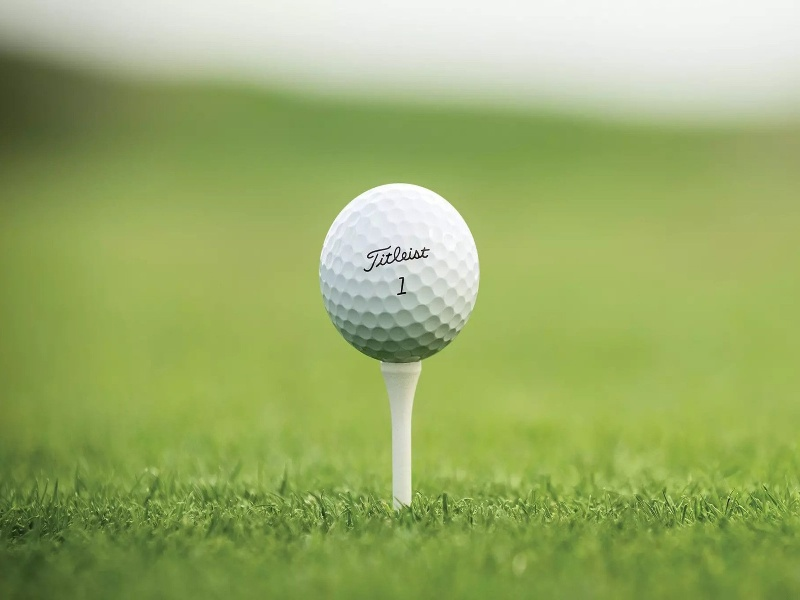golf_ball: (318, 183, 480, 362)
